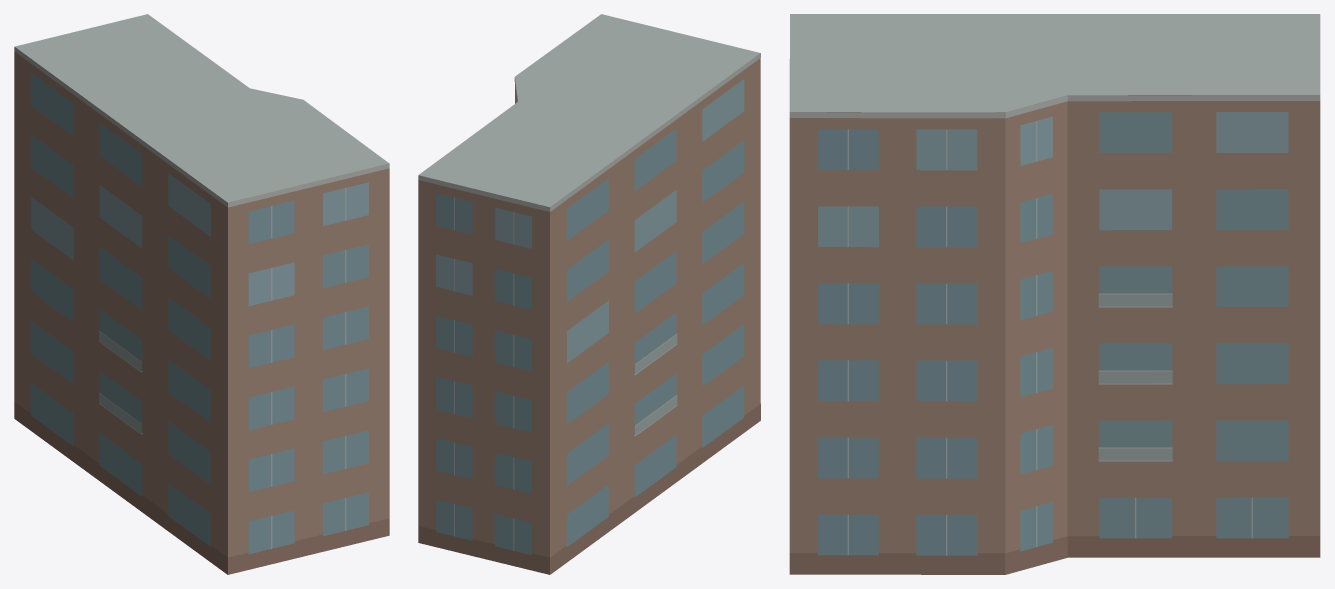
File: survey-upis-32737791.glb
The picture shows the model from 3 angles, left to right: view 1: azimuth 30°, elevation 25°; view 2: azimuth 150°, elevation 25°; view 3: azimuth 270°, elevation 25°; orthographic projection. The views are drawn at different scales.
Parts seen in each view (by area): view 1: survey-upis-32737791.tmp; view 2: survey-upis-32737791.tmp; view 3: survey-upis-32737791.tmp.
Boxes of the visible parts, bbox=[...] form: survey-upis-32737791.tmp: bbox=[14, 14, 389, 574]; survey-upis-32737791.tmp: bbox=[418, 14, 760, 574]; survey-upis-32737791.tmp: bbox=[789, 14, 1320, 574].
Size of the model in its own units: 8.58 by 18.7 by 19.46.
